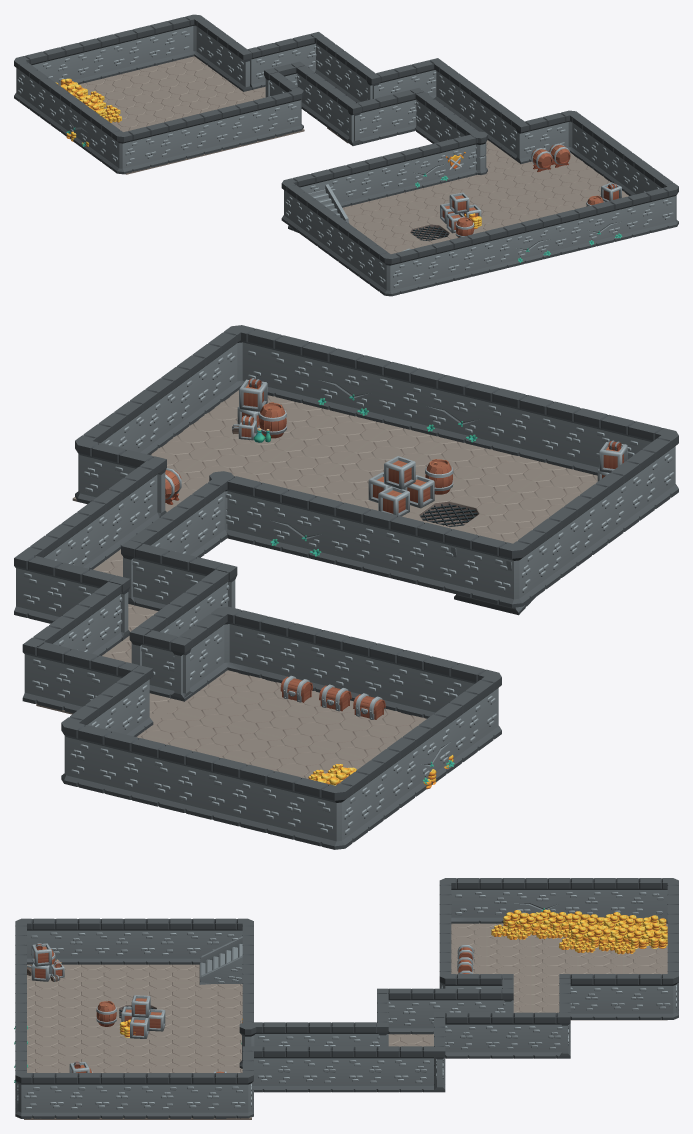
File: lh_dungeon_01.glb
3 renders of one model, top to bottom at view 1: azimuth 30°, elevation 25°; view 2: azimuth 150°, elevation 25°; view 3: azimuth 270°, elevation 25°, orthographic. The views are drawn at different scales.
Visible parts, largest first — view 1: wall.gltf (38) (×2), wall.gltf (35) (×2), wall.gltf (2), wall_cracked.gltf, wall.gltf (44), wall.gltf (3), wall.gltf (47), wall.gltf (1), wall.gltf (7), wall_cracked.gltf (3), wall.gltf (45), wall.gltf (51) (+79 smaller); view 2: wall.gltf (38) (×2), wall.gltf (8), wall.gltf (50), wall.gltf (49), wall.gltf (7), wall.gltf (48), wall_cracked.gltf (3), wall.gltf (9), wall_cracked.gltf, wall.gltf (3), wall_cracked.gltf (2), wall.gltf (+84 smaller); view 3: wall.gltf (35) (×2), wall.gltf (38) (×2), wall.gltf (34), wall.gltf (20), wall.gltf (22), wall.gltf (25), wall.gltf (13), wall.gltf (16), wall.gltf (15), wall.gltf (43), wall.gltf (10), wall.gltf (11) (+71 smaller).
Part boxes in pixels (x1=…): wall.gltf (38) (×2): x1=24, y1=32, x2=321, y2=120; wall.gltf (35) (×2): x1=86, y1=33, x2=338, y2=165; wall.gltf (2): x1=476, y1=225, x2=516, y2=274; wall_cracked.gltf: x1=583, y1=198, x2=623, y2=248; wall.gltf (44): x1=137, y1=120, x2=177, y2=169; wall.gltf (3): x1=440, y1=233, x2=480, y2=283; wall.gltf (47): x1=244, y1=94, x2=284, y2=143; wall.gltf (1): x1=619, y1=190, x2=659, y2=239; wall.gltf (7): x1=373, y1=149, x2=413, y2=198; wall_cracked.gltf (3): x1=409, y1=141, x2=449, y2=190; wall.gltf (45): x1=173, y1=111, x2=213, y2=161; wall.gltf (51): x1=141, y1=19, x2=181, y2=67; wall.gltf (38) (×2): x1=22, y1=639, x2=392, y2=836; wall.gltf (8): x1=376, y1=512, x2=438, y2=587; wall.gltf (50): x1=144, y1=741, x2=206, y2=816; wall.gltf (49): x1=199, y1=754, x2=260, y2=829; wall.gltf (7): x1=322, y1=499, x2=383, y2=574; wall.gltf (48): x1=253, y1=767, x2=314, y2=843; wall_cracked.gltf (3): x1=268, y1=486, x2=329, y2=561; wall.gltf (9): x1=430, y1=525, x2=492, y2=600; wall_cracked.gltf: x1=315, y1=345, x2=377, y2=419; wall.gltf (3): x1=532, y1=398, x2=594, y2=472; wall_cracked.gltf (2): x1=424, y1=371, x2=485, y2=446; wall.gltf: x1=369, y1=358, x2=431, y2=432; wall.gltf (35) (×2): x1=468, y1=878, x2=567, y2=1058; wall.gltf (38) (×2): x1=559, y1=878, x2=650, y2=1058; wall.gltf (34): x1=479, y1=1012, x2=525, y2=1058; wall.gltf (20): x1=297, y1=1046, x2=342, y2=1092; wall.gltf (22): x1=343, y1=1046, x2=388, y2=1092; wall.gltf (25): x1=388, y1=1046, x2=433, y2=1092; wall.gltf (13): x1=180, y1=1073, x2=226, y2=1118; wall.gltf (16): x1=135, y1=918, x2=180, y2=964; wall.gltf (15): x1=89, y1=918, x2=134, y2=964; wall.gltf (43): x1=605, y1=974, x2=650, y2=1019; wall.gltf (10): x1=44, y1=1073, x2=89, y2=1118; wall.gltf (11): x1=89, y1=1073, x2=134, y2=1118.
Size of the model in its own units: 41.68 by 5 by 58.38.
Materials: 1 (1 with a texture image).
